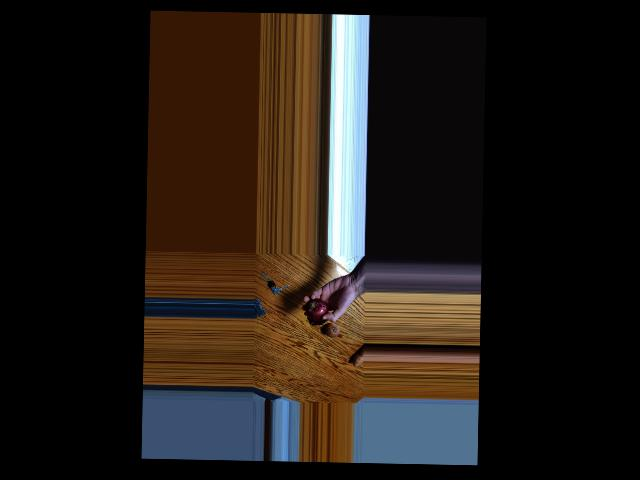onion: (305, 298, 327, 320)
